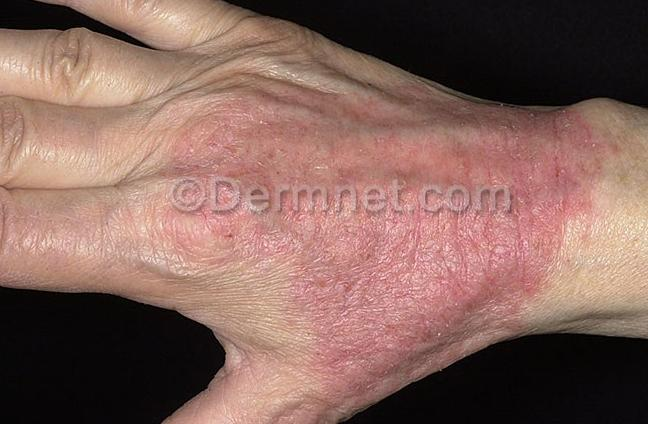Eritema 2: (161, 78, 603, 407)
xerosis 1: (434, 107, 602, 196), (187, 135, 256, 184)
